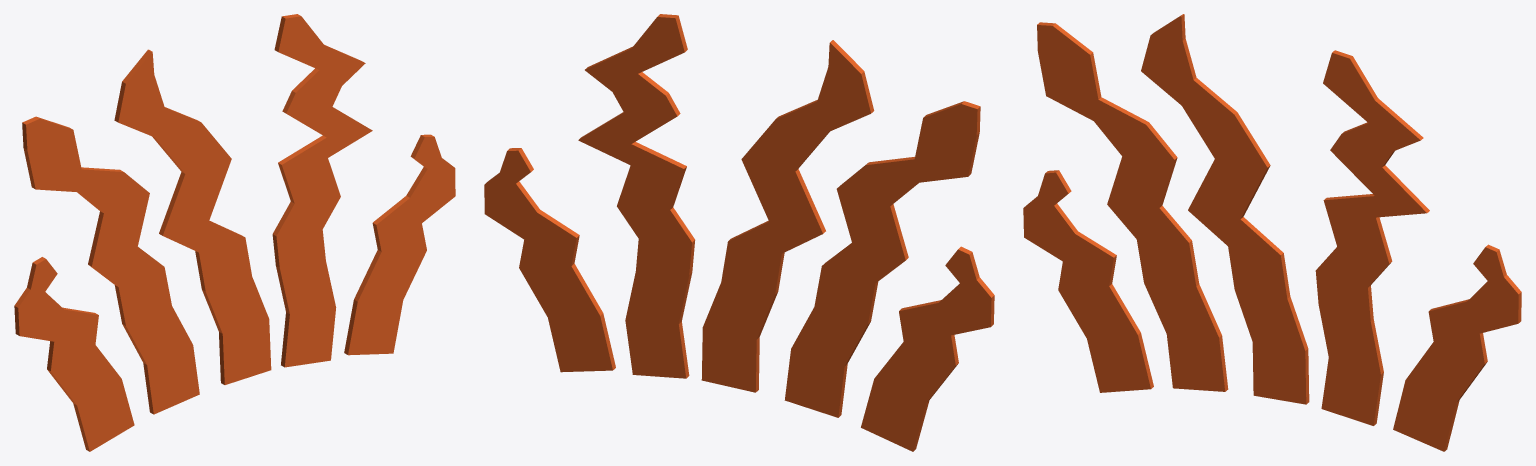
3 renders of one model, left to right at view 1: azimuth 30°, elevation 25°; view 2: azimuth 150°, elevation 25°; view 3: azimuth 330°, elevation 25°, orthographic. The views are drawn at different scales.
Parts seen in each view (by area): view 1: Plane.004; view 2: Plane.004; view 3: Plane.004.
Boxes of the visible parts, bbox=[...] form: Plane.004: bbox=[14, 14, 455, 451]; Plane.004: bbox=[484, 14, 994, 451]; Plane.004: bbox=[1023, 14, 1521, 451].
Bounding box in the file's own units: 1.07 × 0.838 × 0.1046.
